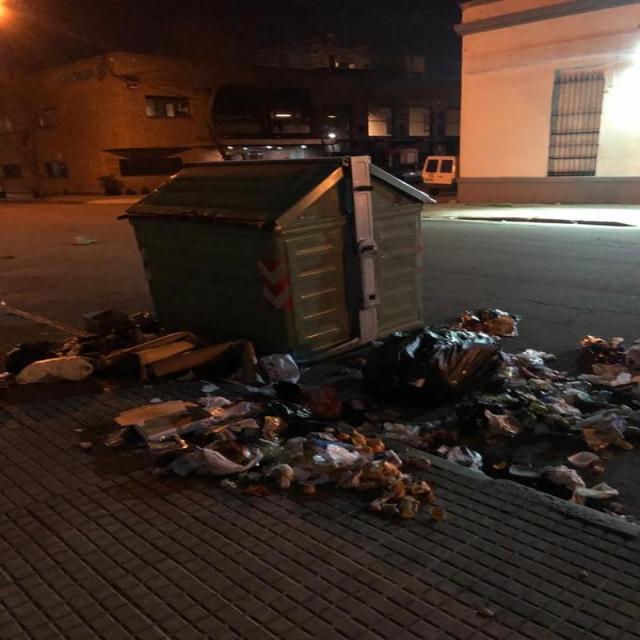garbage: (310, 306, 640, 514), (80, 392, 443, 526), (0, 304, 306, 397)
